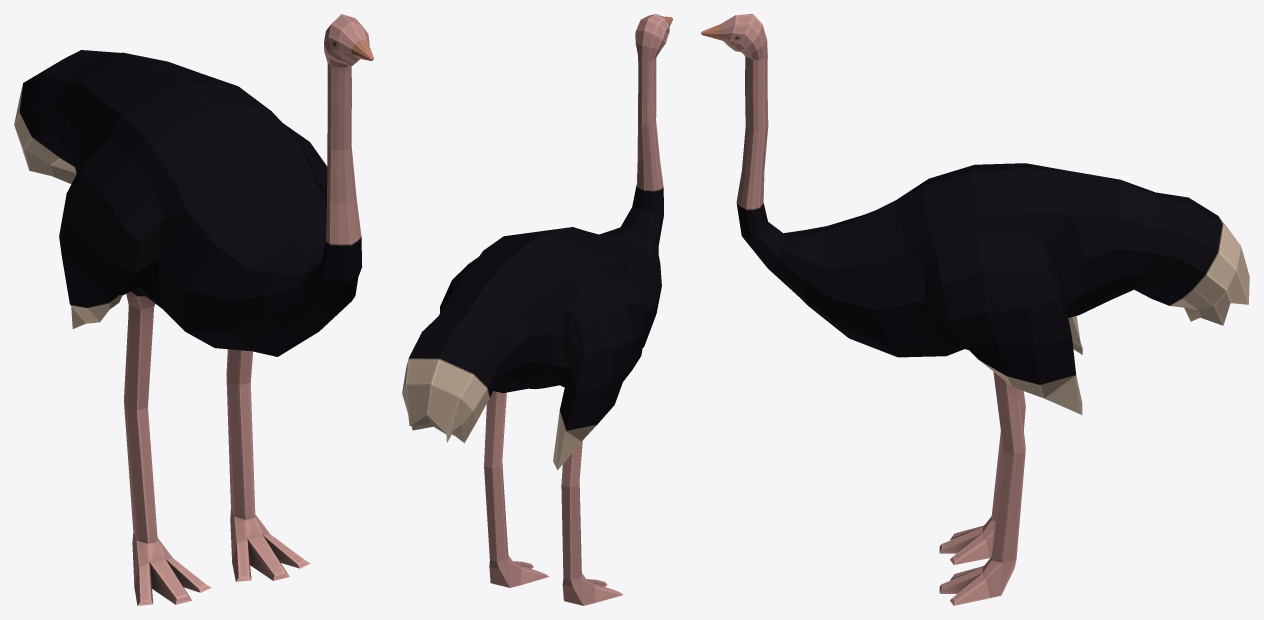
File: avestruz.glb
3 renders of one model, left to right at view 1: azimuth 30°, elevation 25°; view 2: azimuth 150°, elevation 25°; view 3: azimuth 270°, elevation 25°, orthographic. The views are drawn at different scales.
Parts seen in each view (by area): view 1: Ostrich_mesh; view 2: Ostrich_mesh; view 3: Ostrich_mesh.
Part boxes in pixels (bbox=[...]): Ostrich_mesh: bbox=[14, 14, 373, 605]; Ostrich_mesh: bbox=[402, 14, 672, 605]; Ostrich_mesh: bbox=[701, 14, 1249, 605].
Size of the model in its own units: 4.26 by 11.34 by 10.15.
Materials: 1 (1 with a texture image).
